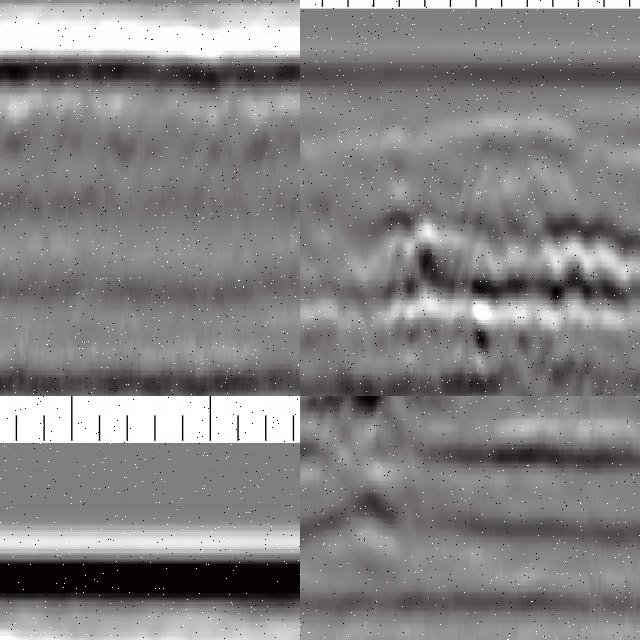loose: (383, 207, 636, 339), (301, 397, 490, 487)
